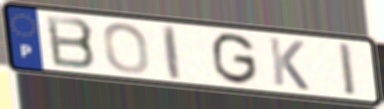B: (43, 13, 99, 72)
G: (210, 31, 260, 87)
I: (159, 23, 184, 82), (336, 41, 359, 99)
K: (266, 35, 312, 93)
O: (101, 21, 152, 76)
